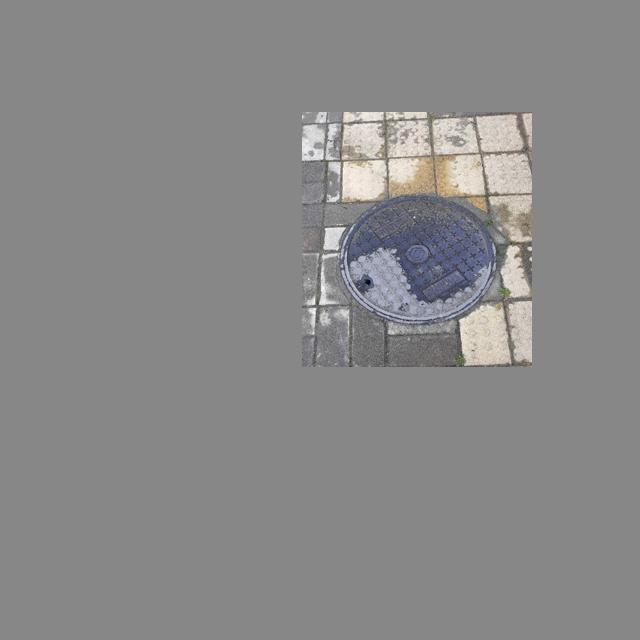good: (340, 194, 497, 324)
